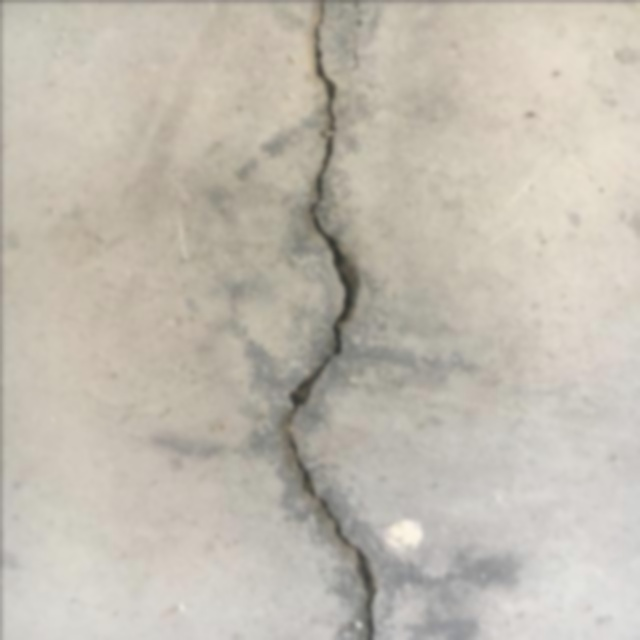SurfaceCrack: (252, 0, 424, 639)
